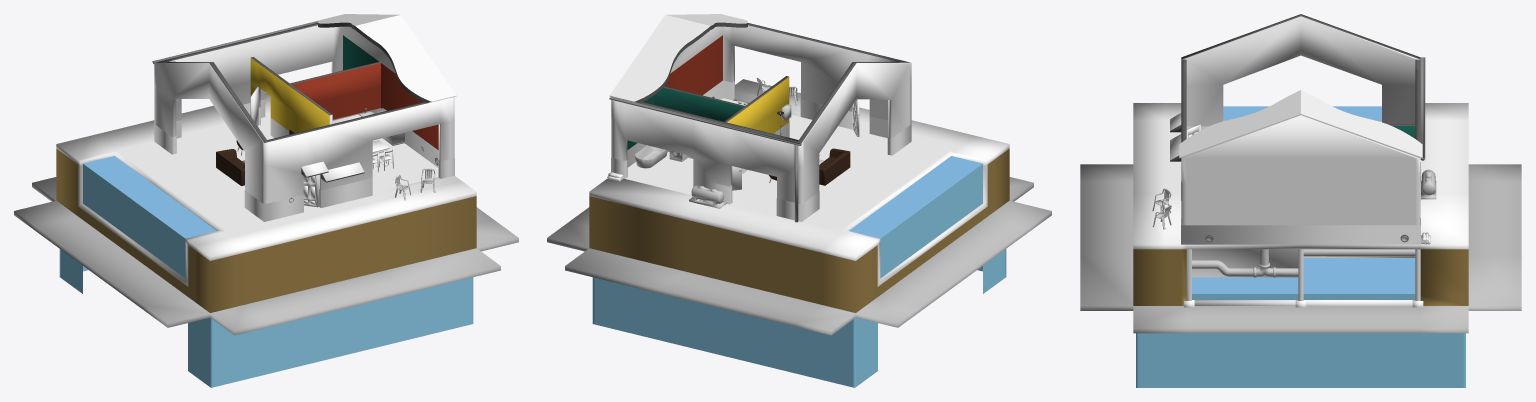
File: Maquette_v4.glb
3 renders of one model, left to right at view 1: azimuth 30°, elevation 25°; view 2: azimuth 150°, elevation 25°; view 3: azimuth 270°, elevation 25°, orthographic. The views are drawn at different scales.
Visible parts, largest first — view 1: exterieur_terrain, structure_murs, maquette_bordure, eau_exterieur_cote, structure_cloisons, eau_piscine_cote, eau_piscine, salon_sol, structure_salissure_exterieure, exterieur_piscine, cuisine_sol, structure_salissure_interieure (+7 smaller); view 2: exterieur_terrain, structure_murs, maquette_bordure, eau_exterieur_cote, salon_sol, eau_piscine_cote, structure_cloisons, eau_piscine, exterieur_piscine, structure_salissure_interieure, structure_salissure_exterieure, sdb_sol (+4 smaller); view 3: structure_murs, maquette_bordure, exterieur_terrain, eau_exterieur_cote, eau_exterieur, structure_salissure_exterieure, exterieur_tuyaux, eau_piscine, exterieur_gouttiere, exterieur_appentis, exterieur_cuve_fioul, exterieur_table_et_chaises.
Part boxes in pixels (x1,y1,x2,y2): exterieur_terrain: (56, 93, 476, 312); structure_murs: (154, 14, 456, 204); maquette_bordure: (14, 177, 518, 335); eau_exterieur_cote: (59, 249, 473, 387); structure_cloisons: (250, 57, 380, 133); eau_piscine_cote: (83, 164, 185, 278); eau_piscine: (83, 156, 216, 238); salon_sol: (173, 124, 314, 209); structure_salissure_exterieure: (154, 124, 454, 221); exterieur_piscine: (78, 151, 225, 286); cuisine_sol: (372, 138, 438, 192); structure_salissure_interieure: (174, 99, 439, 206); exterieur_terrain: (589, 79, 1009, 312); structure_murs: (609, 14, 911, 204); maquette_bordure: (547, 177, 1051, 335); eau_exterieur_cote: (592, 249, 1006, 387); salon_sol: (730, 122, 891, 215); eau_piscine_cote: (880, 164, 982, 278); structure_cloisons: (654, 76, 789, 133); eau_piscine: (849, 156, 982, 238); exterieur_piscine: (840, 151, 987, 286); structure_salissure_interieure: (626, 80, 889, 202); structure_salissure_exterieure: (611, 81, 911, 221); sdb_sol: (625, 152, 693, 194); structure_murs: (1179, 14, 1422, 225); maquette_bordure: (1080, 164, 1521, 333); exterieur_terrain: (1133, 103, 1468, 307); eau_exterieur_cote: (1136, 294, 1465, 387); eau_exterieur: (1192, 258, 1415, 293); structure_salissure_exterieure: (1181, 132, 1420, 244); exterieur_tuyaux: (1192, 249, 1415, 277); eau_piscine: (1223, 106, 1381, 120); exterieur_gouttiere: (1420, 57, 1425, 160); exterieur_appentis: (1170, 113, 1181, 161); exterieur_cuve_fioul: (1421, 169, 1436, 199); exterieur_table_et_chaises: (1152, 188, 1171, 229).
Bounding box in the file's own units: 16.6 × 11.44 × 16.6.
